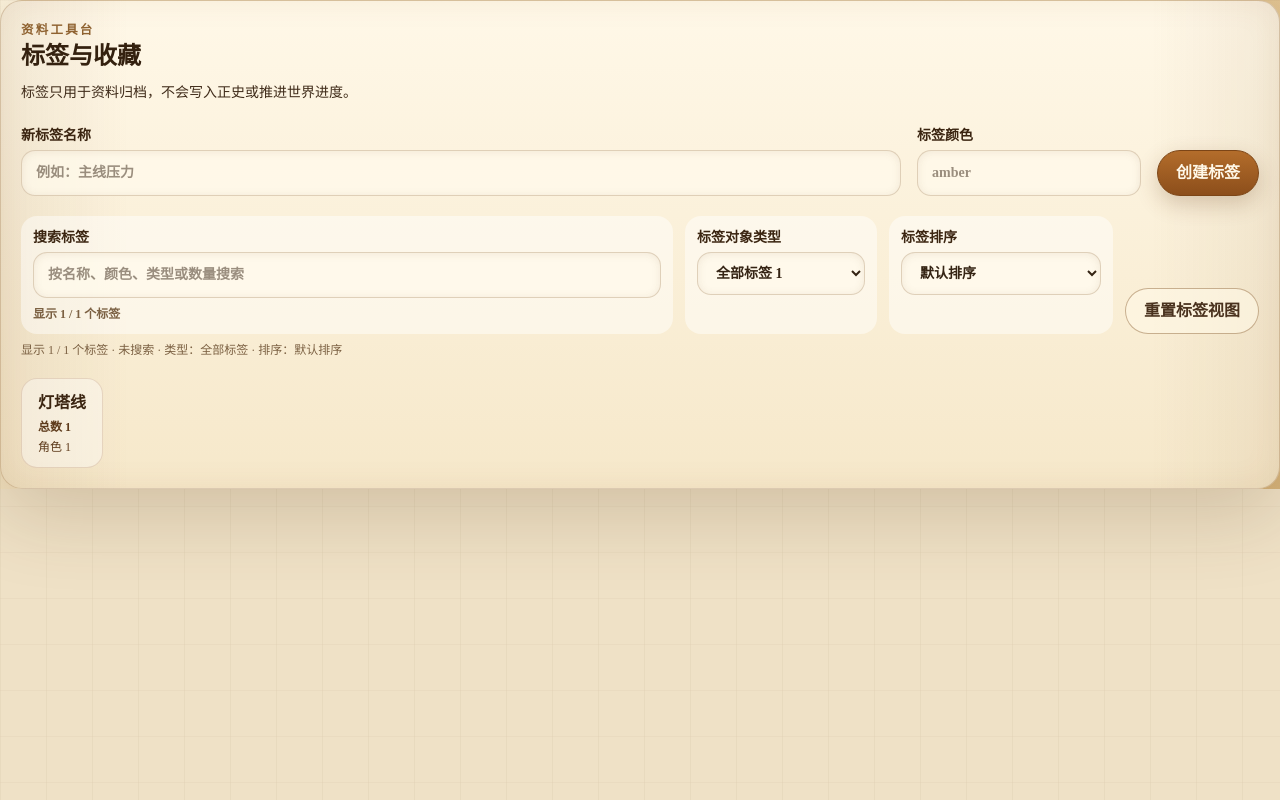
Test: WorldTagsPanel › explains that another tag is required before merging
The width and height of the screenshot is (1280, 800).
Expected: the text "灯塔线" is shown, [38, 391, 86, 415]
Click the button with aria-label "查看 灯塔线": click(62, 423) [21, 378, 103, 468]
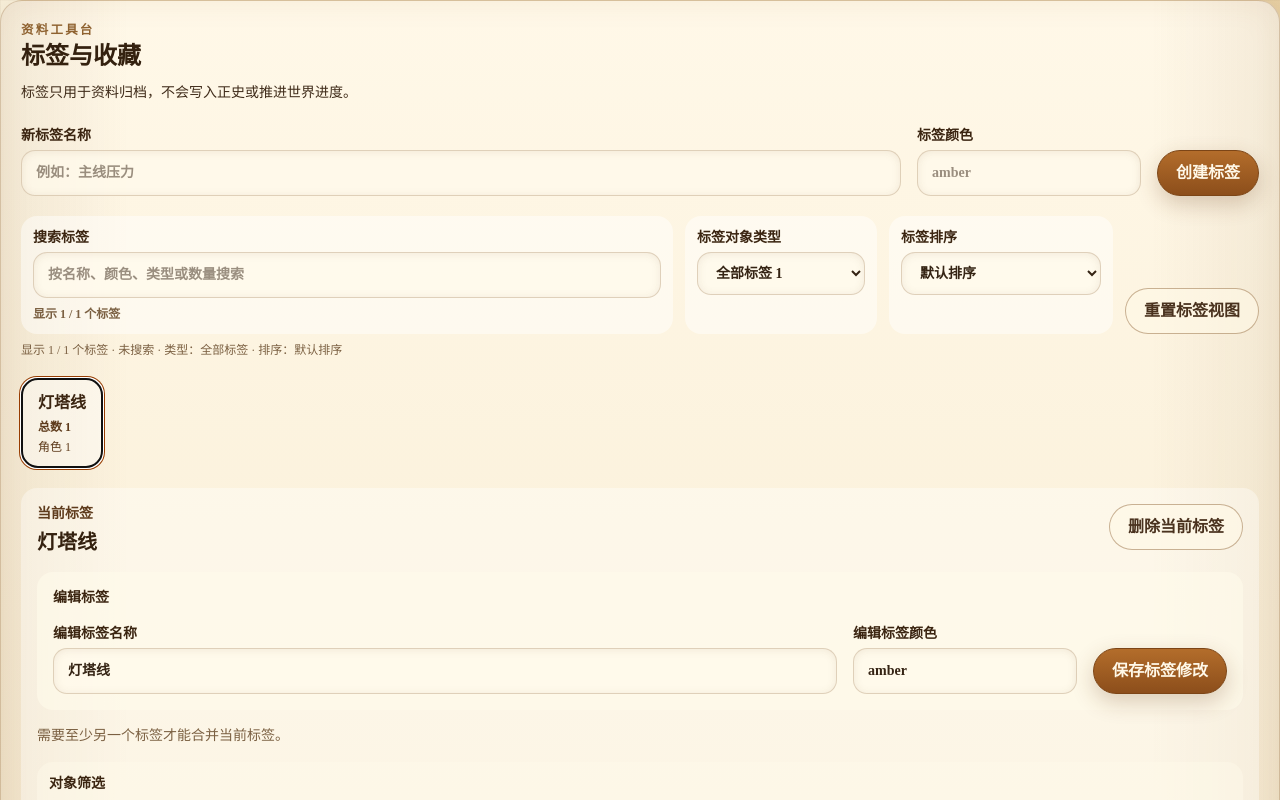
Result: the text "需要至少另一个标签才能合并当前标签。" is shown at [37, 728, 289, 743]
